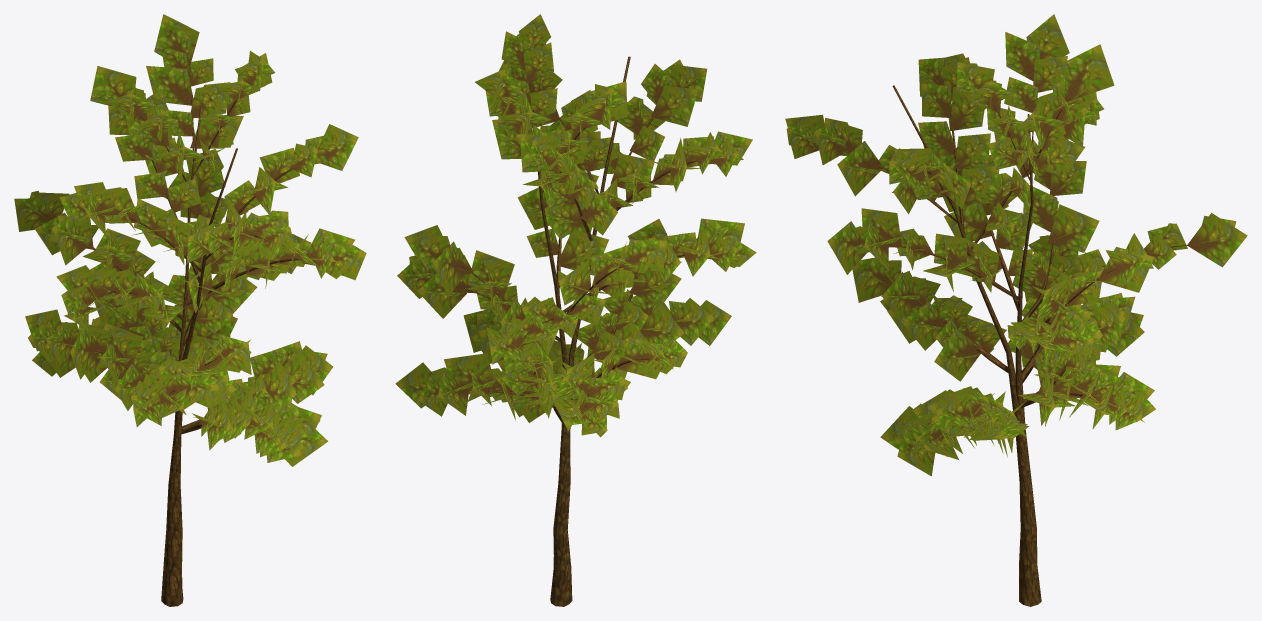
Rendered from Tree2.fbx.
The picture shows the model from 3 angles, left to right: view 1: azimuth 30°, elevation 25°; view 2: azimuth 150°, elevation 25°; view 3: azimuth 270°, elevation 25°; orthographic projection. The views are drawn at different scales.
Visible parts, largest first — view 1: branch_1, textureplane_oaktiled_albedotransparency_0; view 2: branch_1, textureplane_oaktiled_albedotransparency_0; view 3: branch_1, textureplane_oaktiled_albedotransparency_0.
Part boxes in pixels (box(x1,y1,x2,y2)): branch_1: box(14, 14, 366, 466); textureplane_oaktiled_albedotransparency_0: box(72, 100, 314, 606); branch_1: box(395, 14, 756, 437); textureplane_oaktiled_albedotransparency_0: box(460, 56, 712, 606); branch_1: box(785, 14, 1247, 476); textureplane_oaktiled_albedotransparency_0: box(845, 85, 1189, 606).
Size of the model in its own units: 383 by 692 by 509.
